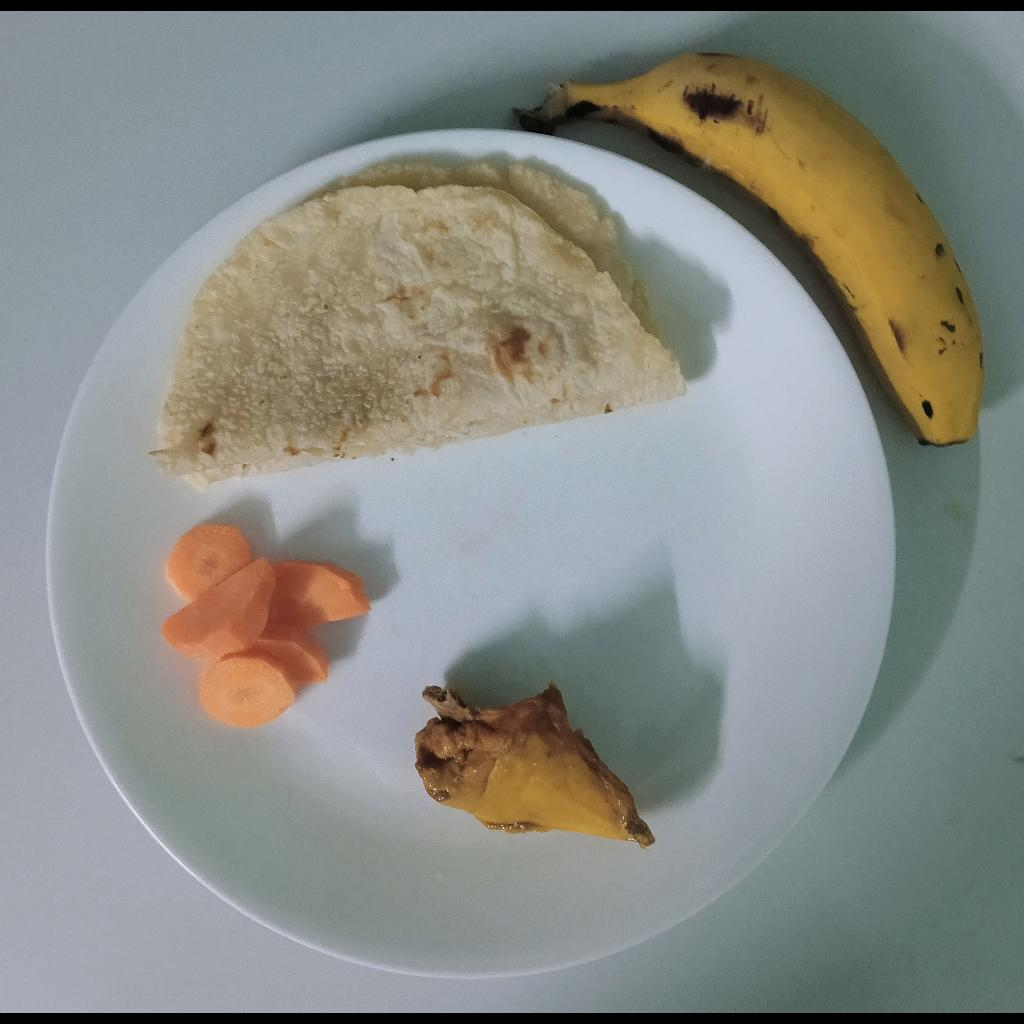banana: (512, 53, 985, 446)
carrot: (162, 524, 374, 727)
chicken: (415, 682, 654, 850)
ruti: (152, 163, 689, 496)
